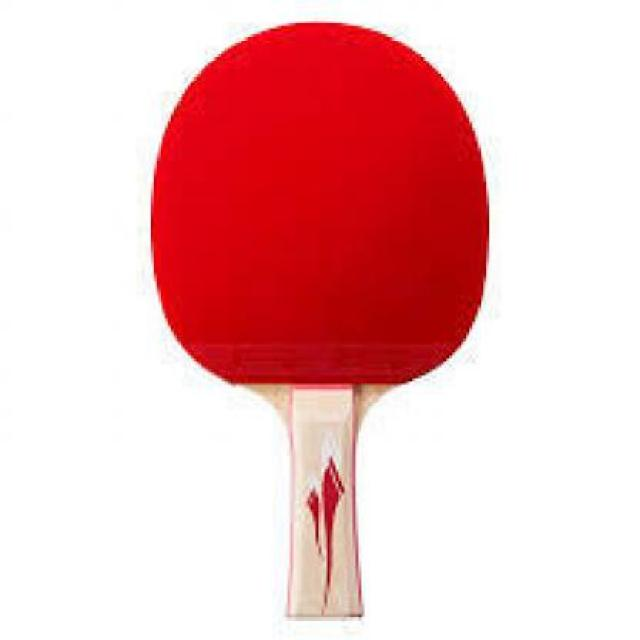table_tennis_racket: (149, 23, 497, 418)
